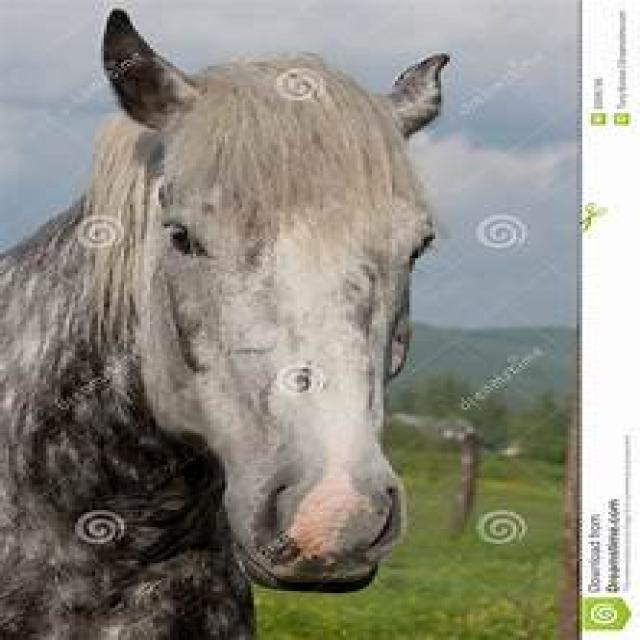horse: (0, 9, 450, 640)
